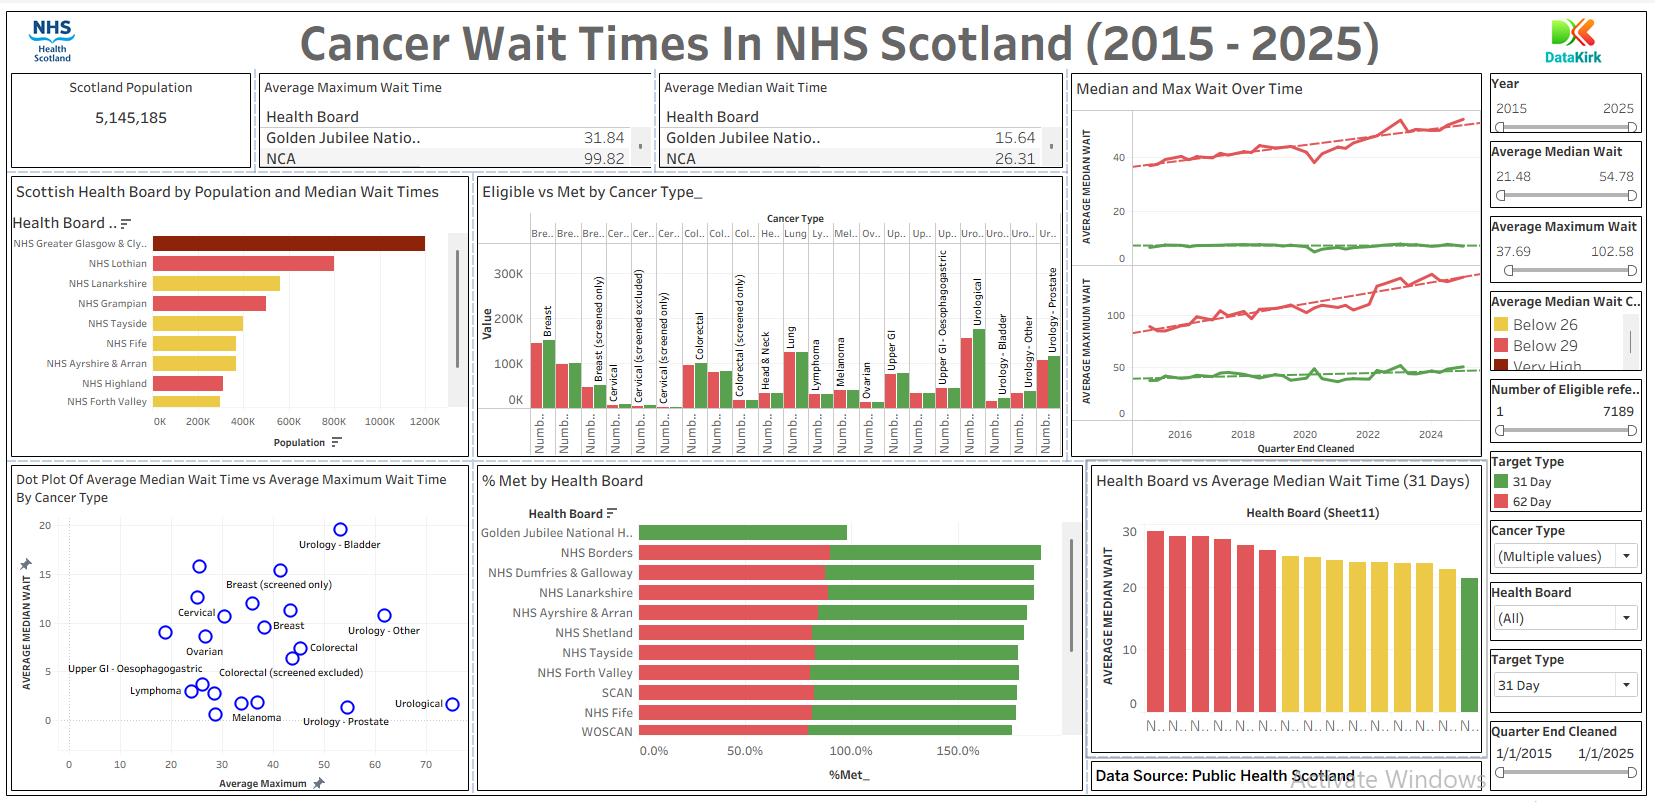

What the dashboard file says about the page in this screenshot:
{"tool":"tableau","page":{"name":"Dashboard2_Cancer Wait Times In NHS Scotland (2015-2025)","canvas":[1000,1000],"units":"permille","ordinal":1},"visuals":[{"type":"image","param":"C:/Users/Joseph Okpono/Desktop/TABLEAU DATA KIRK PROJECT/NHS_Health_Scotland.png","box":[5.4,11.2,80.1,70.5]},{"type":"text","box":[85.6,11.2,845.1,70.5]},{"type":"image","param":"C:/Users/Joseph Okpono/Desktop/TABLEAU DATA KIRK PROJECT/DataKirk Logo.png","box":[930.7,11.2,63.9,70.5]},{"type":"worksheet","title":"Scotland Population","mark":"Automatic","box":[5.4,81.8,149.4,128.9]},{"type":"worksheet","title":"Maximum Wait Time","mark":"Automatic","rows":["Health Board"],"box":[154.8,81.8,241.9,128.9]},{"type":"worksheet","title":"Median Wait Time","mark":"Automatic","rows":["Health Board"],"box":[396.7,81.8,248.4,128.9]},{"type":"worksheet","title":"Median and Max Wait Over Time","mark":"Line","rows":["Calculation_1067916096694681613","Calculation_1067916096695021582"],"cols":["Quarter End_Cleaned"],"box":[645.1,81.8,252.9,489.7]},{"type":"filter","title":"Scottish Health Board by Population and Median Wait Times","param":"[federated.0nsqyrx0i4cykv18arjar1bvp4u6].[none:Year:qk]","box":[898,81.8,96.6,84.9]},{"type":"filter","title":"Scottish Health Board by Population and Median Wait Times","param":"[federated.0nsqyrx0i4cykv18arjar1bvp4u6].[usr:Calculation_1067916096694681613:qk","box":[898,166.7,96.6,93.6]},{"type":"worksheet","title":"Scottish Health Board by Population and Median Wait Times","mark":"Automatic","rows":["Health Board (Sheet11)"],"cols":["Population"],"box":[5.4,210.7,281.2,360.8]},{"type":"worksheet","title":"Eligible vs Met by Cancer Type_","mark":"Automatic","cols":["Cancer Type"],"box":[286.7,210.7,358.5,360.8]},{"type":"filter","title":"Scottish Health Board by Population and Median Wait Times","param":"[federated.0nsqyrx0i4cykv18arjar1bvp4u6].[usr:Calculation_1067916096695021582:qk","box":[898,260.3,96.6,93.6]},{"type":"legend","title":"Scottish Health Board by Population and Median Wait Times","param":"[federated.0nsqyrx0i4cykv18arjar1bvp4u6].[usr:Calculation_2404359287110270977:nk","box":[898,354,96.6,110.4]},{"type":"filter","title":"Eligible vs Met by Cancer Type_","param":"[federated.0nsqyrx0i4cykv18arjar1bvp4u6].[none:Number of Eligible referrals:qk]","box":[898,464.4,96.6,89.9]},{"type":"legend","title":"% Met by Health Board","param":"[federated.0nsqyrx0i4cykv18arjar1bvp4u6].[none:Target Type:nk]","box":[898,554.3,96.6,86.1]},{"type":"worksheet","title":"Dot Plot Of Average Median Wait Time vs Average Maximum Wait Time By Cancer Type","mark":"Automatic","rows":["Calculation_1067916096694681613"],"cols":["Calculation_1245808282296320006"],"box":[5.4,571.5,281.2,417.3]},{"type":"worksheet","title":"% Met by Health Board","mark":"Automatic","rows":["Health Board"],"cols":["Calculation_1245808282298023943"],"box":[286.7,571.5,370.6,417.3]},{"type":"worksheet","title":"Health Board vs Average Median Wait Time","mark":"Automatic","rows":["Calculation_1067916096694681613"],"cols":["Health Board (Sheet11)"],"box":[657.2,571.5,240.8,369.7]},{"type":"filter","title":"Dot Plot Of Average Median Wait Time vs Average Maximum Wait Time By Cancer Type","param":"[federated.0nsqyrx0i4cykv18arjar1bvp4u6].[none:Cancer Type:nk]","box":[898,640.4,96.6,77.4]},{"type":"filter","title":"Dot Plot Of Average Median Wait Time vs Average Maximum Wait Time By Cancer Type","param":"[federated.0nsqyrx0i4cykv18arjar1bvp4u6].[none:Health Board:nk]","box":[898,717.8,96.6,83.7]},{"type":"filter","title":"Dot Plot Of Average Median Wait Time vs Average Maximum Wait Time By Cancer Type","param":"[federated.0nsqyrx0i4cykv18arjar1bvp4u6].[none:Target Type:nk]","box":[898,801.5,96.6,89.9]},{"type":"filter","title":"Dot Plot Of Average Median Wait Time vs Average Maximum Wait Time By Cancer Type","param":"[federated.0nsqyrx0i4cykv18arjar1bvp4u6].[none:Quarter End_Cleaned:qk]","box":[898,891.4,96.6,97.4]},{"type":"text","box":[657.2,941.1,240.8,47.6]}]}

Visuals, with their boxes on the dashboard's canvas, which has no fixed pixel size, in thousandths of its width and height (x1, y1, x2, y2). These are canvas units, not pixel positions in the 1655x802 screenshot, which may show the page scaled, cropped or inside an application window:
image: rect(5, 11, 86, 82)
text: rect(86, 11, 931, 82)
image: rect(931, 11, 995, 82)
"Scotland Population" worksheet: rect(5, 82, 155, 211)
"Maximum Wait Time" worksheet: rect(155, 82, 397, 211)
"Median Wait Time" worksheet: rect(397, 82, 645, 211)
"Median and Max Wait Over Time" worksheet (Line marks): rect(645, 82, 898, 572)
"Scottish Health Board by Population and Median Wait Times" filter: rect(898, 82, 995, 167)
"Scottish Health Board by Population and Median Wait Times" filter: rect(898, 167, 995, 260)
"Scottish Health Board by Population and Median Wait Times" worksheet: rect(5, 211, 287, 572)
"Eligible vs Met by Cancer Type_" worksheet: rect(287, 211, 645, 572)
"Scottish Health Board by Population and Median Wait Times" filter: rect(898, 260, 995, 354)
"Scottish Health Board by Population and Median Wait Times" legend: rect(898, 354, 995, 464)
"Eligible vs Met by Cancer Type_" filter: rect(898, 464, 995, 554)
"% Met by Health Board" legend: rect(898, 554, 995, 640)
"Dot Plot Of Average Median Wait Time vs Average Maximum Wait Time By Cancer Type" worksheet: rect(5, 572, 287, 989)
"% Met by Health Board" worksheet: rect(287, 572, 657, 989)
"Health Board vs Average Median Wait Time" worksheet: rect(657, 572, 898, 941)
"Dot Plot Of Average Median Wait Time vs Average Maximum Wait Time By Cancer Type" filter: rect(898, 640, 995, 718)
"Dot Plot Of Average Median Wait Time vs Average Maximum Wait Time By Cancer Type" filter: rect(898, 718, 995, 802)
"Dot Plot Of Average Median Wait Time vs Average Maximum Wait Time By Cancer Type" filter: rect(898, 802, 995, 891)
"Dot Plot Of Average Median Wait Time vs Average Maximum Wait Time By Cancer Type" filter: rect(898, 891, 995, 989)
text: rect(657, 941, 898, 989)
